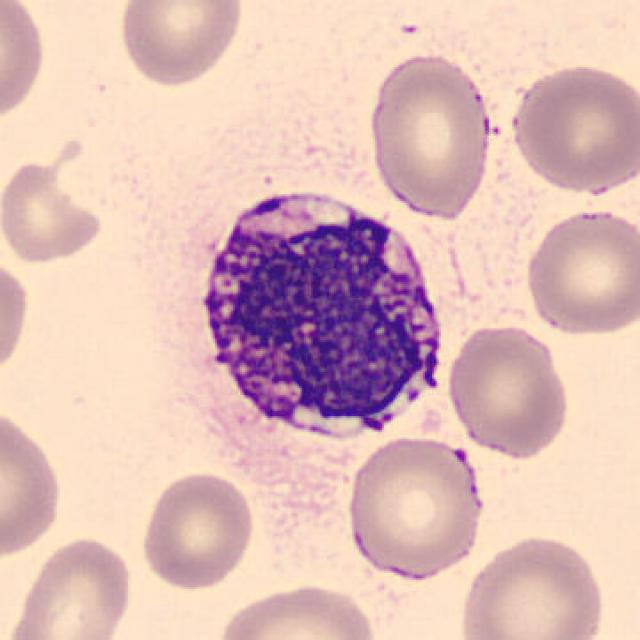Basophil: (185, 176, 457, 462)
RBC: (364, 49, 496, 222), (343, 432, 489, 582), (444, 321, 574, 462), (505, 60, 638, 196), (455, 530, 609, 640), (521, 206, 638, 338), (0, 532, 139, 640), (137, 468, 258, 592), (0, 136, 107, 268), (114, 0, 247, 88), (0, 404, 66, 562), (214, 580, 380, 640), (0, 0, 48, 125), (0, 254, 32, 381)
